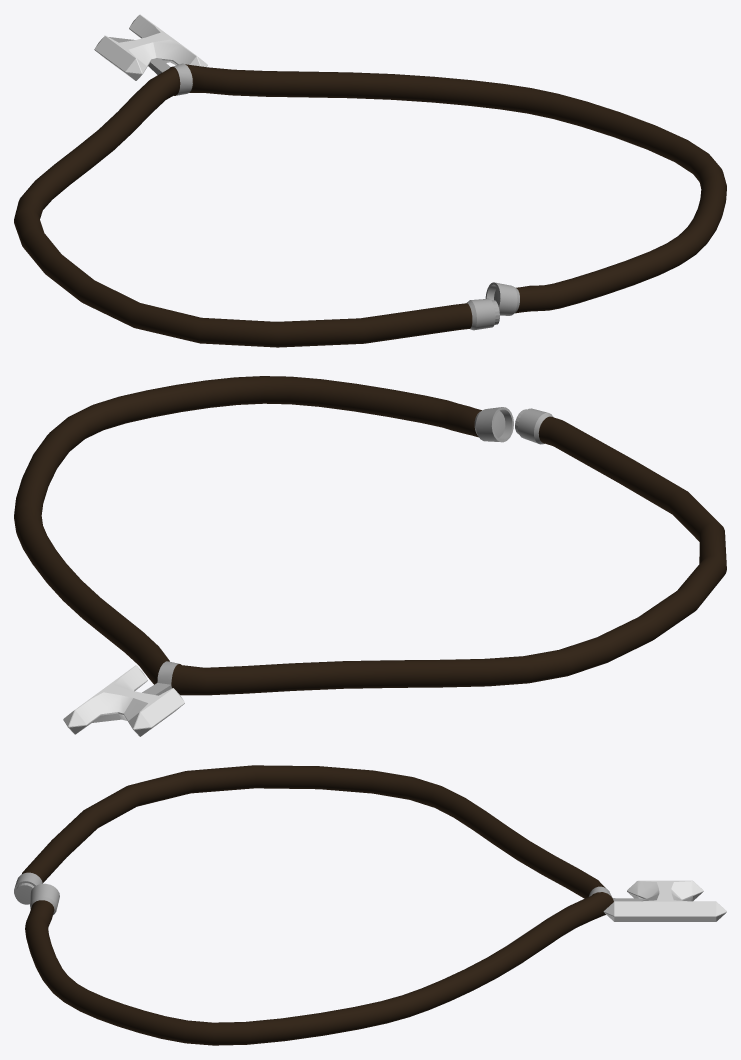
Rendered from Kette.fbx.
3 renders of one model, top to bottom at view 1: azimuth 30°, elevation 25°; view 2: azimuth 150°, elevation 25°; view 3: azimuth 270°, elevation 25°, orthographic. The views are drawn at different scales.
Visible parts, largest first — view 1: pCylinder1, pCube1; view 2: pCylinder1, pCube1; view 3: pCylinder1, pCube1.
Boxes of the visible parts, x1,y1,x2,y2 form: pCylinder1: (14, 58, 726, 347); pCube1: (94, 14, 207, 80); pCylinder1: (14, 376, 726, 695); pCube1: (63, 665, 184, 736); pCylinder1: (14, 765, 645, 1045); pCube1: (603, 880, 726, 921).
Size of the model in its own units: 0.5744 by 0.0329 by 0.6486.
